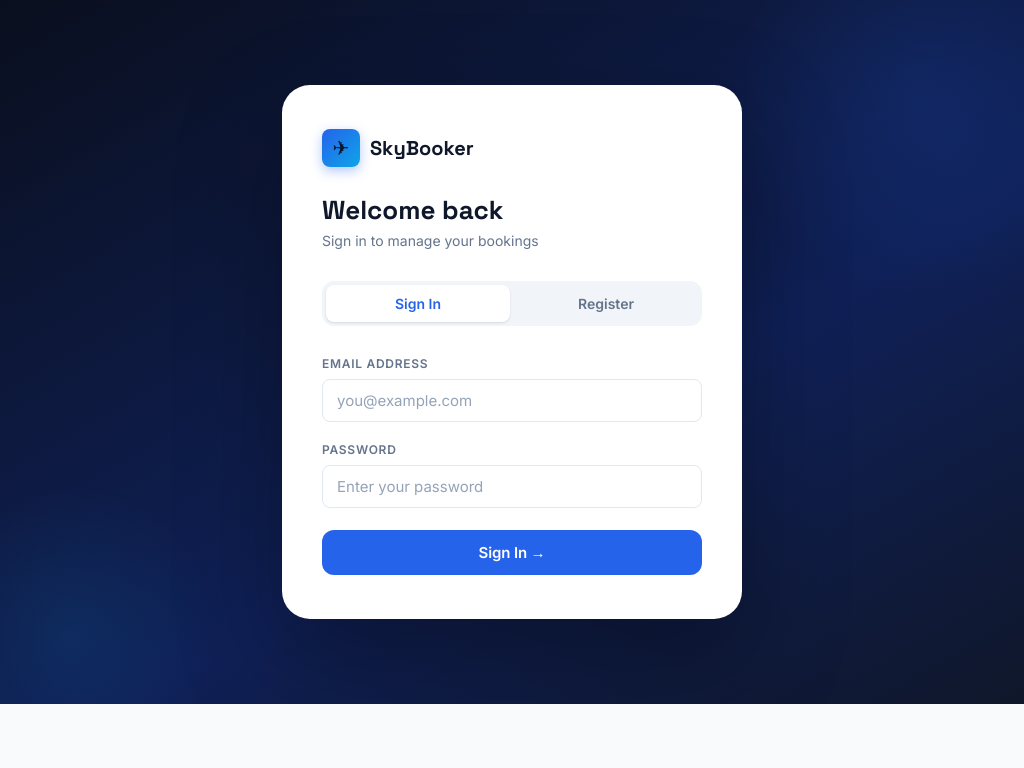
Test: LoginPage — login flow › shows generic error when response has no message
Type "x@x.com" into the field with placeholder "you@example.com" at (512, 400), box [322,379,702,422]
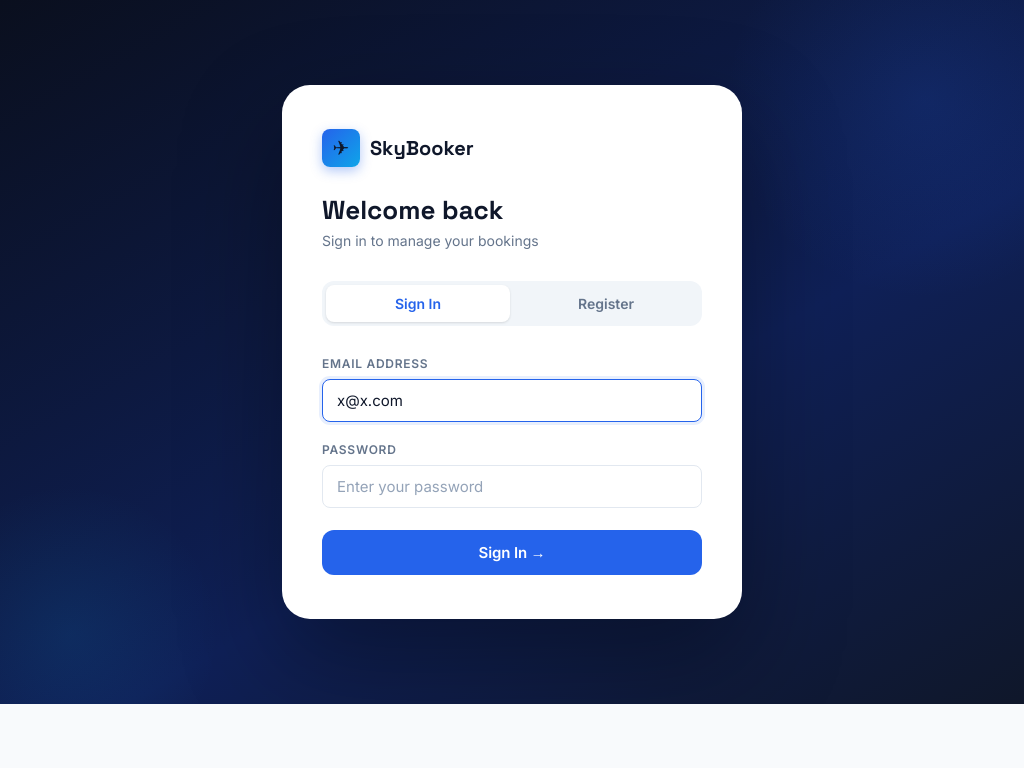
Type "x" into the password field with placeholder "Enter your password" at (512, 486), box [322,465,702,508]
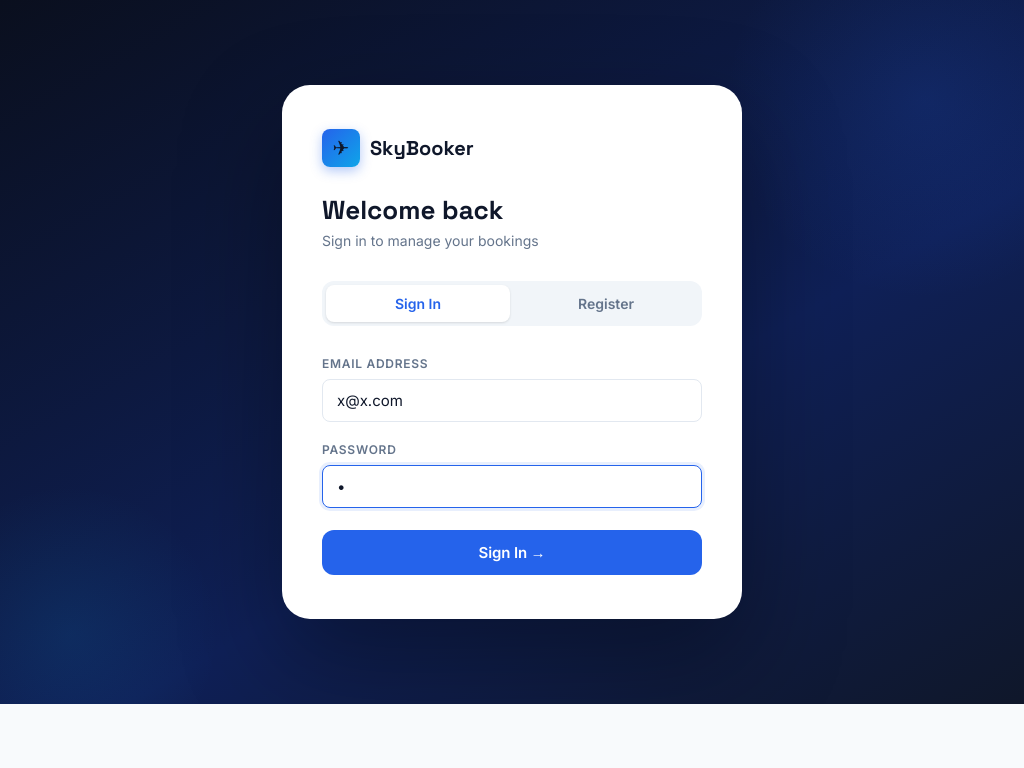
Click the button "Sign In →" at (512, 552), box [322,530,702,575]
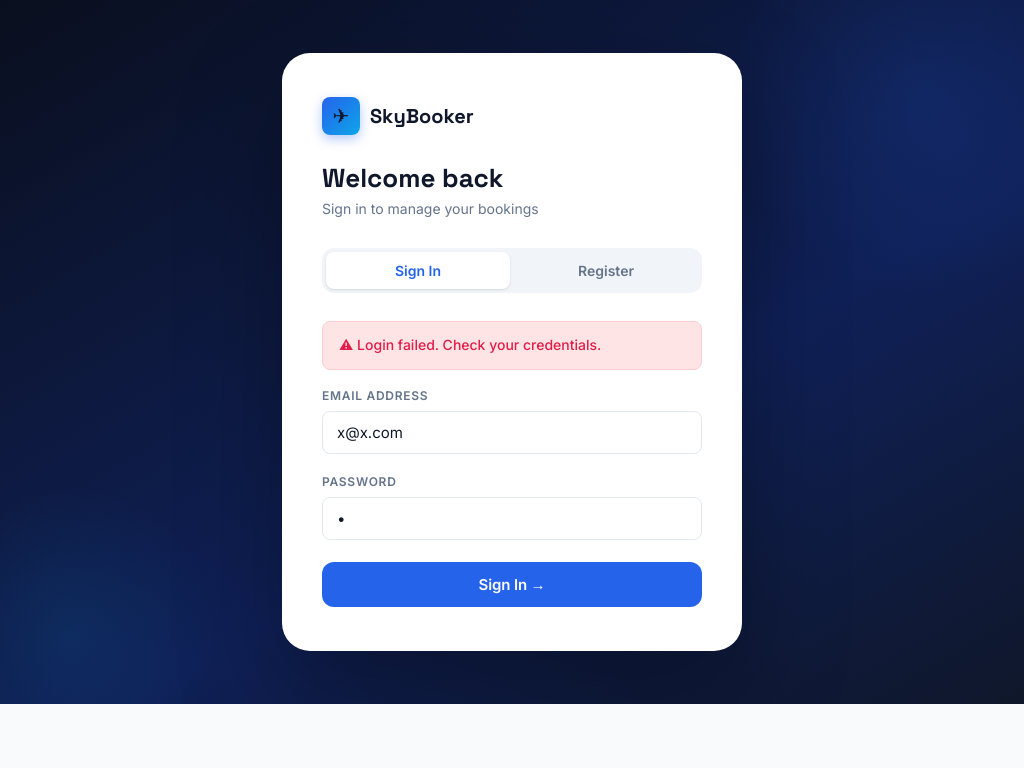
Expected: the text "⚠ Login failed. Check your credentials." is shown, [322,321,702,370]
